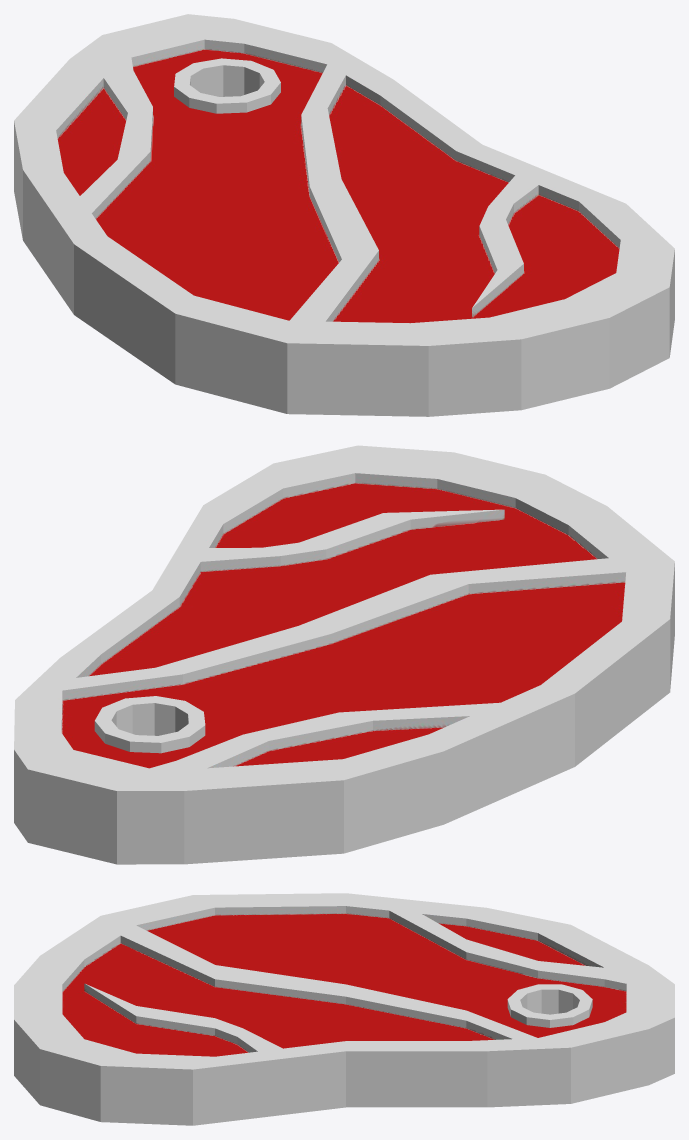
Rendered from steak.fbx.
3 renders of one model, top to bottom at view 1: azimuth 30°, elevation 25°; view 2: azimuth 150°, elevation 25°; view 3: azimuth 270°, elevation 25°, orthographic. The views are drawn at different scales.
Visible parts, largest first — view 1: steak2; view 2: steak2; view 3: steak2.
Boxes of the visible parts, x1,y1,x2,y2 form: steak2: (14,14,674,416); steak2: (14,445,674,864); steak2: (14,893,674,1125).
Size of the model in its own units: 56.45 by 8.45 by 89.42.
1 material, 1 textured.
